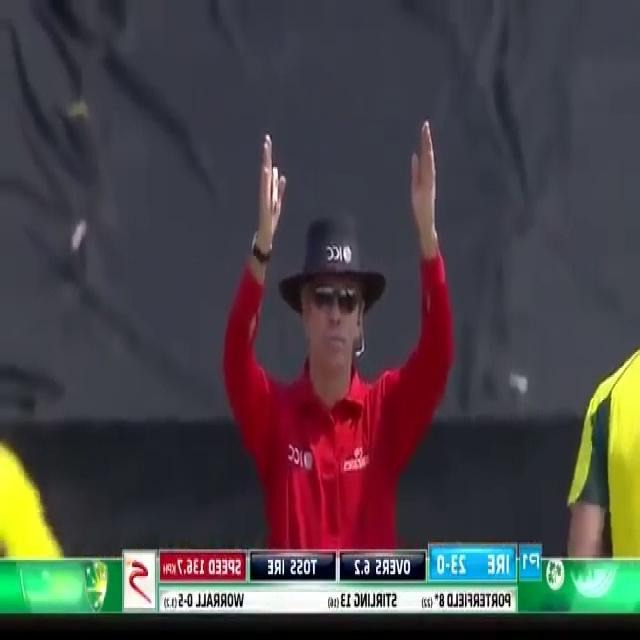Six: (223, 100, 458, 555)
